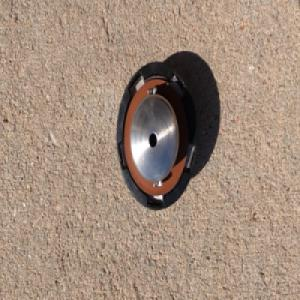FuelCap: (114, 60, 200, 213)
